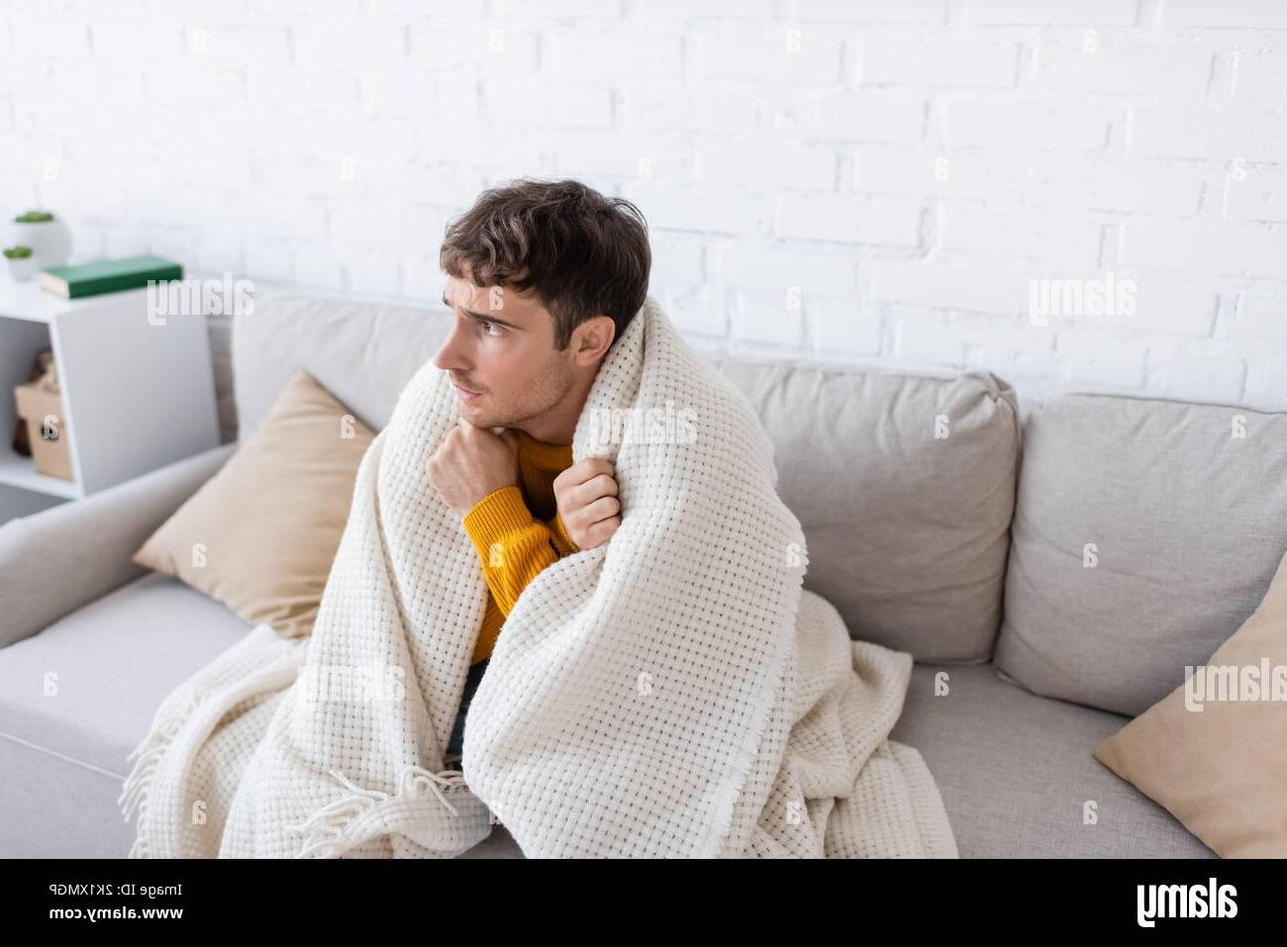blanket: (113, 290, 960, 858)
